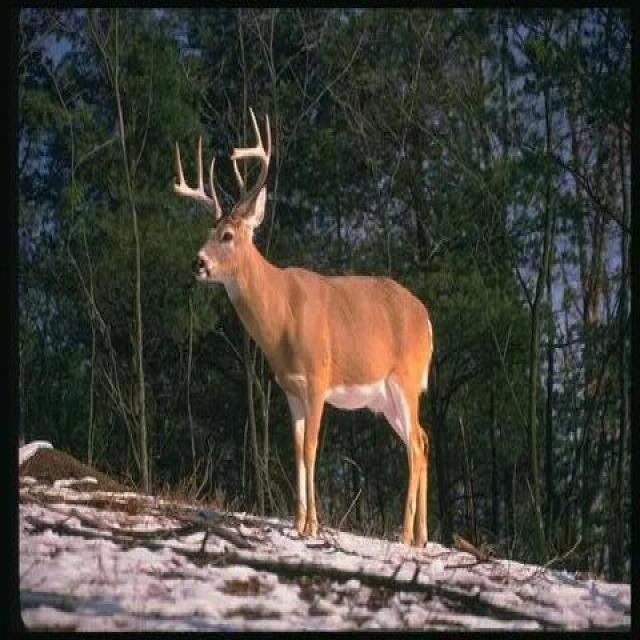deer: (180, 86, 459, 597)
